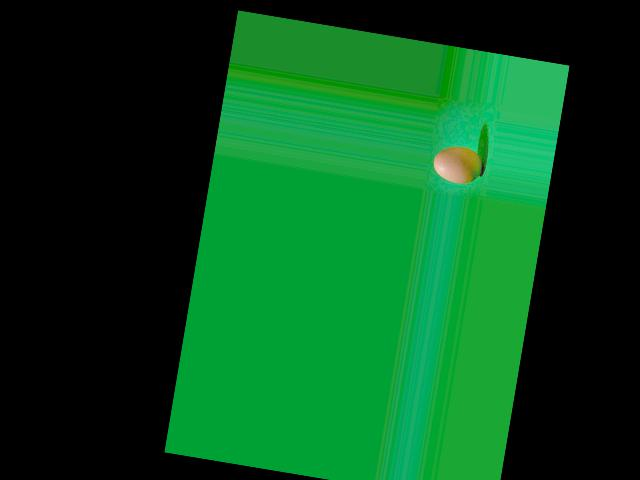egg: (431, 142, 485, 186)
